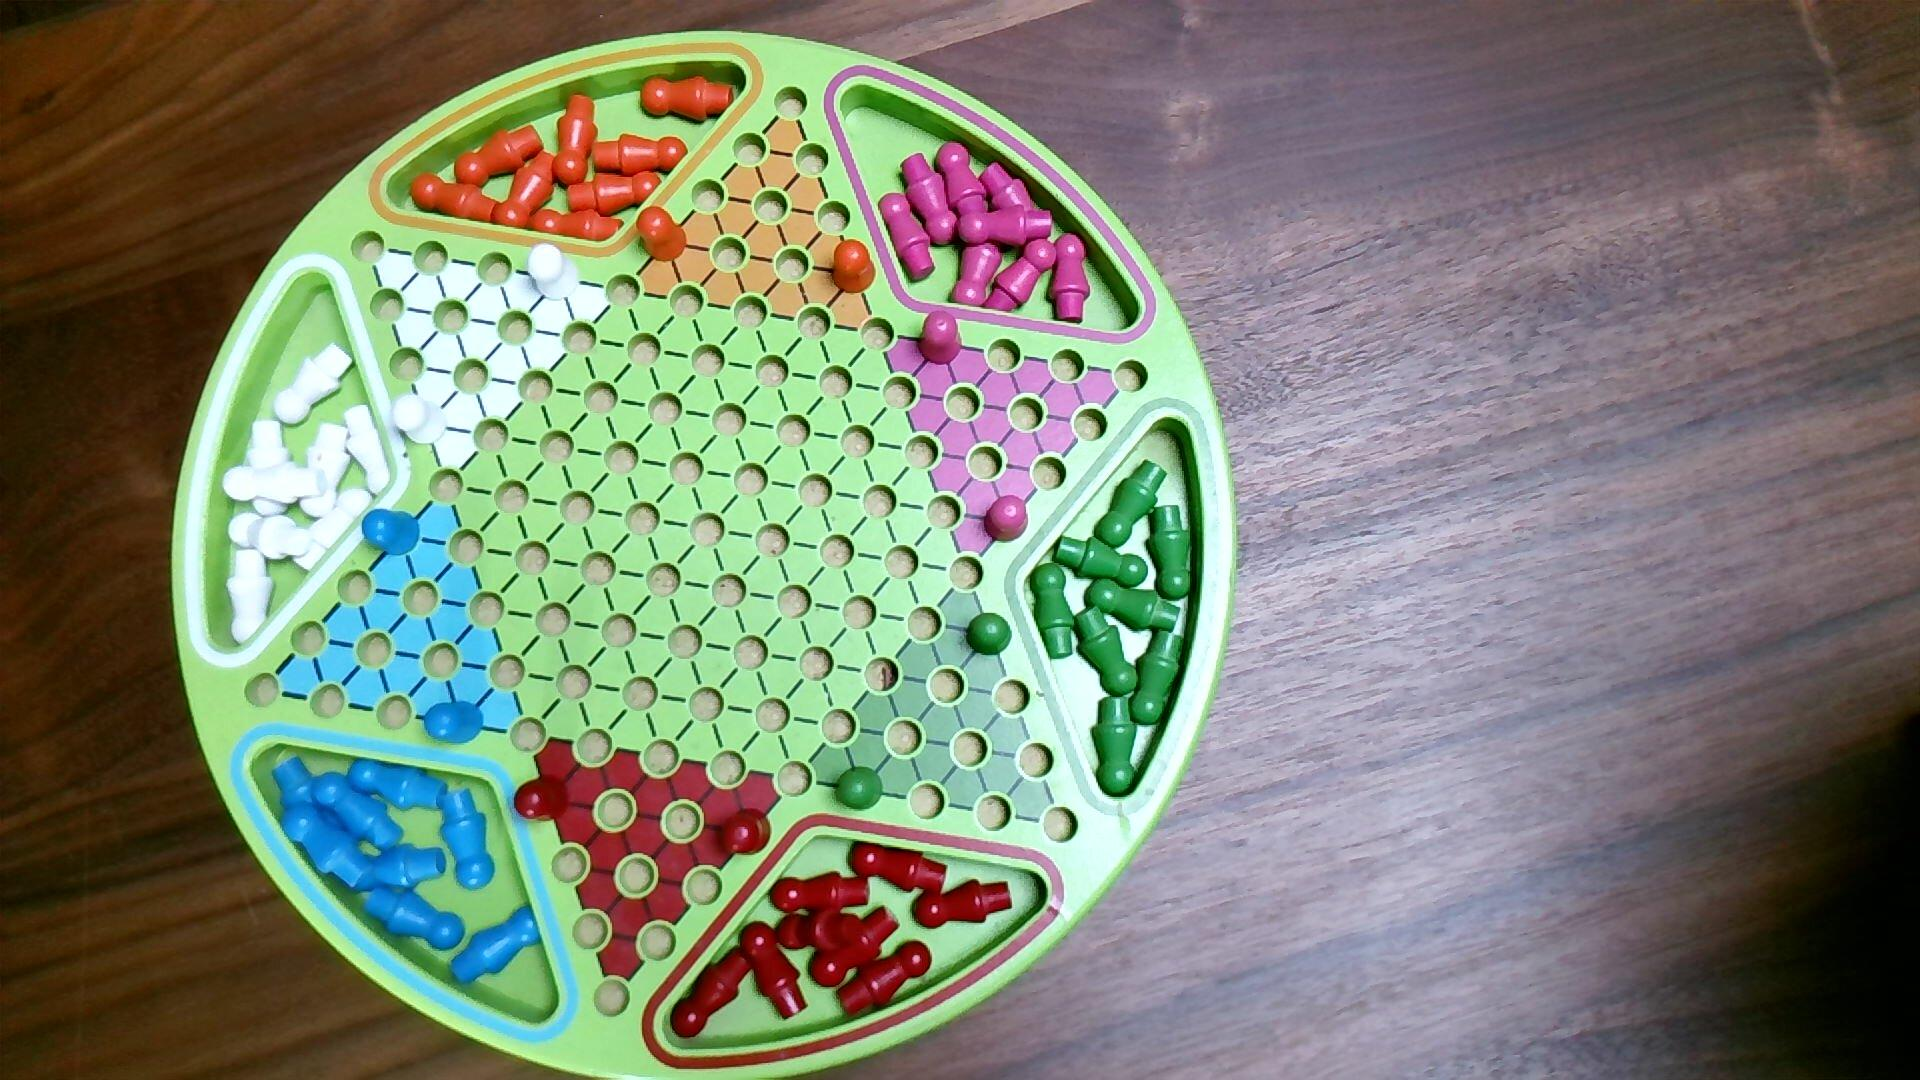B: (361, 509, 423, 558), (422, 700, 485, 746)
G: (833, 765, 885, 814), (965, 611, 1014, 658)
O: (636, 204, 690, 265), (829, 237, 878, 295)
R: (716, 806, 775, 858), (514, 775, 571, 825)
R2: (916, 309, 965, 367), (982, 493, 1030, 545)
W: (527, 243, 582, 303), (392, 393, 450, 447)
